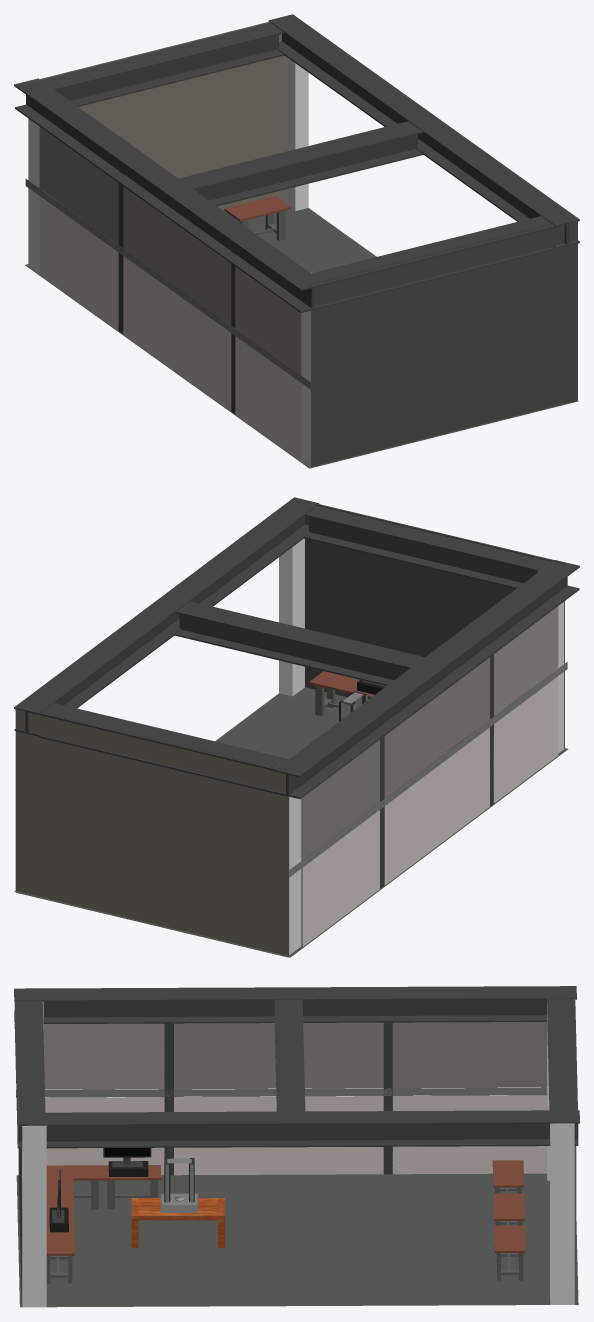
File: escenario.gltf
3 renders of one model, top to bottom at view 1: azimuth 30°, elevation 25°; view 2: azimuth 150°, elevation 25°; view 3: azimuth 270°, elevation 25°, orthographic.
Parts seen in each view (by area): view 1: Vigas_Amarre, ParedFondo, ParedDerecha, ParedIzquierda.005, ParedIzquierda.008, ParedIzquierda.006, ParedIzquierda.001, Piso, ParedIzquierda.007, ParedIzquierda.009, Columna4, ParedIzquierda.002 (+5 smaller); view 2: ParedDerecha, Vigas_Amarre, ParedFondo, ParedIzquierda.005, ParedIzquierda.008, Piso, ParedIzquierda.006, ParedIzquierda.001, ParedIzquierda.007, ParedIzquierda.009, Columna1, ParedIzquierda.002 (+5 smaller); view 3: Piso, Vigas_Amarre, ParedIzquierda.008, ParedIzquierda.007, ParedIzquierda.005, ParedIzquierda.009, ParedIzquierda.006, Columna1, Columna4, ParedIzquierda.002, ParedIzquierda.001, mesa_compresion (+13 smaller).
Boxes of the visible parts, x1,y1,x2,y2 form: Vigas_Amarre: (14, 14, 579, 312); ParedFondo: (311, 217, 577, 467); ParedDerecha: (28, 22, 282, 264); ParedIzquierda.005: (123, 256, 231, 410); ParedIzquierda.008: (123, 186, 231, 324); ParedIzquierda.006: (39, 196, 118, 330); ParedIzquierda.001: (235, 336, 301, 461); Piso: (25, 208, 578, 468); ParedIzquierda.007: (39, 127, 118, 244); ParedIzquierda.009: (235, 266, 301, 374); Columna4: (283, 55, 308, 210); ParedIzquierda.002: (25, 179, 310, 389); ParedDerecha: (15, 709, 288, 957); Vigas_Amarre: (14, 497, 579, 799); ParedFondo: (293, 499, 564, 748); ParedIzquierda.005: (384, 727, 489, 885); ParedIzquierda.008: (384, 657, 489, 797); Piso: (14, 687, 568, 957); ParedIzquierda.006: (302, 810, 379, 946); ParedIzquierda.001: (493, 676, 558, 803); ParedIzquierda.007: (302, 740, 379, 859); ParedIzquierda.009: (494, 606, 558, 716); Columna1: (279, 538, 304, 696); ParedIzquierda.002: (289, 662, 567, 877); Piso: (16, 1173, 578, 1307); Vigas_Amarre: (14, 986, 579, 1148); ParedIzquierda.008: (174, 1022, 383, 1089); ParedIzquierda.007: (392, 1022, 546, 1088); ParedIzquierda.005: (174, 1096, 383, 1175); ParedIzquierda.009: (43, 1023, 164, 1089); ParedIzquierda.006: (392, 1095, 546, 1174); Columna1: (22, 1125, 46, 1307); Columna4: (550, 1123, 574, 1304); ParedIzquierda.002: (16, 1087, 546, 1097); ParedIzquierda.001: (45, 1097, 164, 1175); mesa_compresion: (131, 1198, 224, 1247).
Size of the model in its own units: 10.57 by 6.51 by 18.15.
35 materials, 1 textured.
